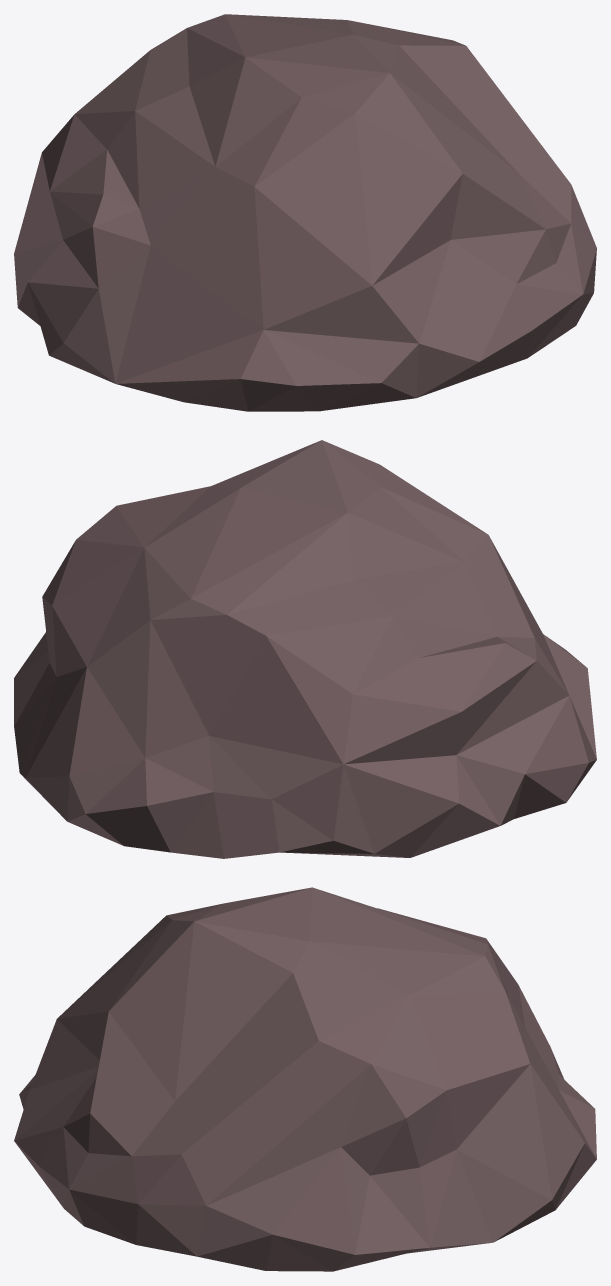
File: Brain Pieces.fbx
The picture shows the model from 3 angles, top to bottom: view 1: azimuth 30°, elevation 25°; view 2: azimuth 150°, elevation 25°; view 3: azimuth 270°, elevation 25°; orthographic projection. The views are drawn at different scales.
Visible parts, largest first — view 1: Brain_Pieces; view 2: Brain_Pieces; view 3: Brain_Pieces.
Boxes of the visible parts, <box> form: Brain_Pieces: <box>14,14,596,411</box>; Brain_Pieces: <box>14,440,596,858</box>; Brain_Pieces: <box>14,887,596,1271</box>.
Bounding box in the file's own units: 0.0359 × 0.0183 × 0.0355.
